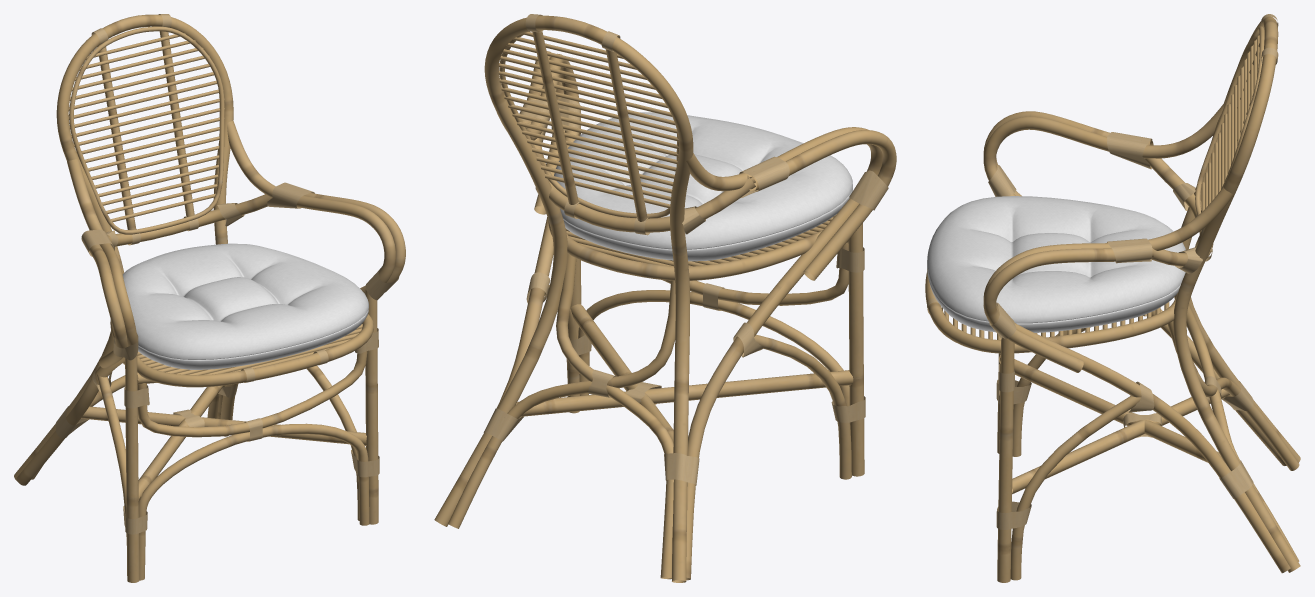
The model's file is chair_38.001.fbx.
3 renders of one model, left to right at view 1: azimuth 30°, elevation 25°; view 2: azimuth 150°, elevation 25°; view 3: azimuth 270°, elevation 25°, orthographic. The views are drawn at different scales.
Parts seen in each view (by area): view 1: chair_38.001; view 2: chair_38.001; view 3: chair_38.001.
Part boxes in pixels (<box>): chair_38.001: <box>14,14,405,582</box>; chair_38.001: <box>434,14,896,582</box>; chair_38.001: <box>925,14,1300,582</box>.
Bounding box in the file's own units: 63.14 × 91.68 × 63.54.
1 material, 1 textured.
